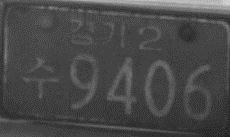0: (142, 58, 175, 119)
2: (138, 24, 164, 53)
4: (105, 57, 137, 115)
6: (181, 62, 213, 122)
9: (69, 52, 101, 111)
경기_O: (69, 17, 129, 50)
수: (21, 56, 59, 99)
